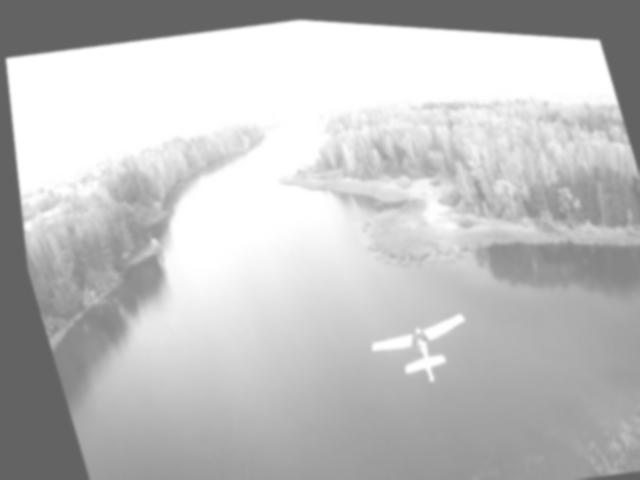hedef: (352, 297, 479, 391)
